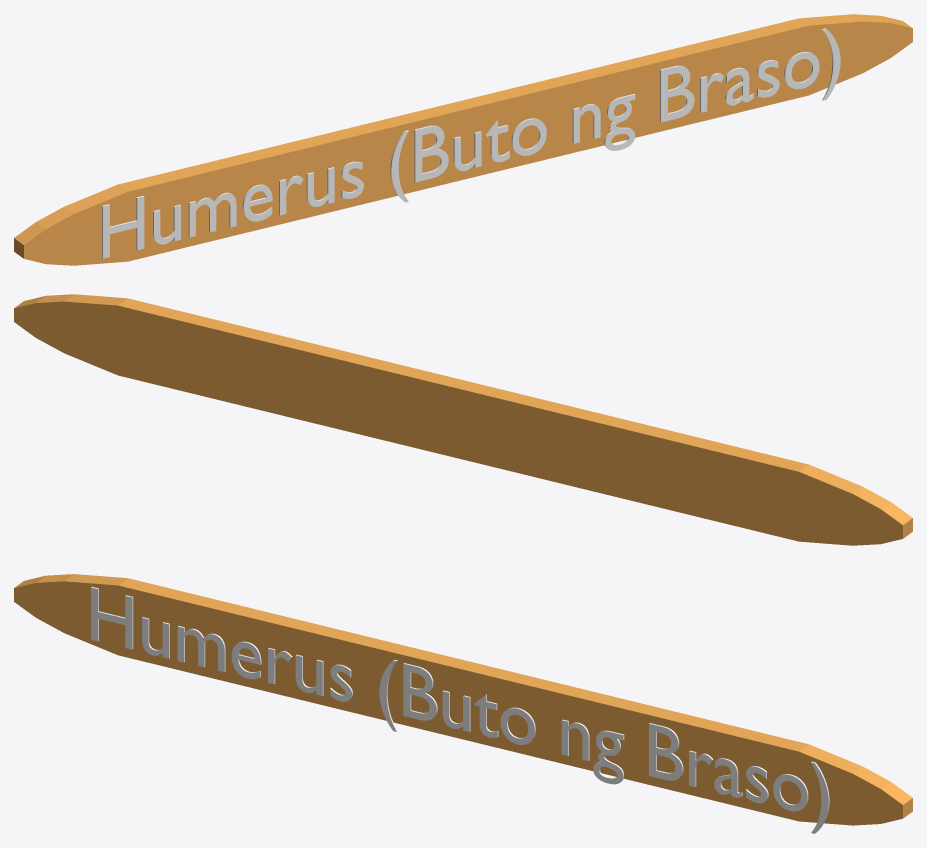
File: txtHumerus.fbx
3 renders of one model, top to bottom at view 1: azimuth 30°, elevation 25°; view 2: azimuth 150°, elevation 25°; view 3: azimuth 330°, elevation 25°, orthographic.
Parts seen in each view (by area): view 1: TagContainer.052, Text.053; view 2: TagContainer.052; view 3: TagContainer.052, Text.053.
Boxes of the visible parts, x1=… form: TagContainer.052: x1=14, y1=14, x2=912, y2=265; Text.053: x1=102, y1=28, x2=840, y2=258; TagContainer.052: x1=14, y1=294, x2=912, y2=545; TagContainer.052: x1=14, y1=574, x2=912, y2=825; Text.053: x1=91, y1=587, x2=829, y2=833.
Bounding box in the file's own units: 550 × 45.81 × 11.79.
